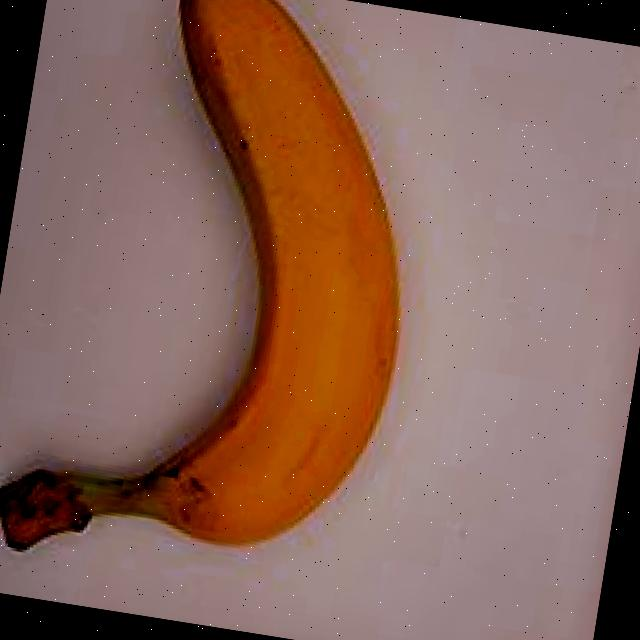Ripe: (0, 0, 487, 624)
